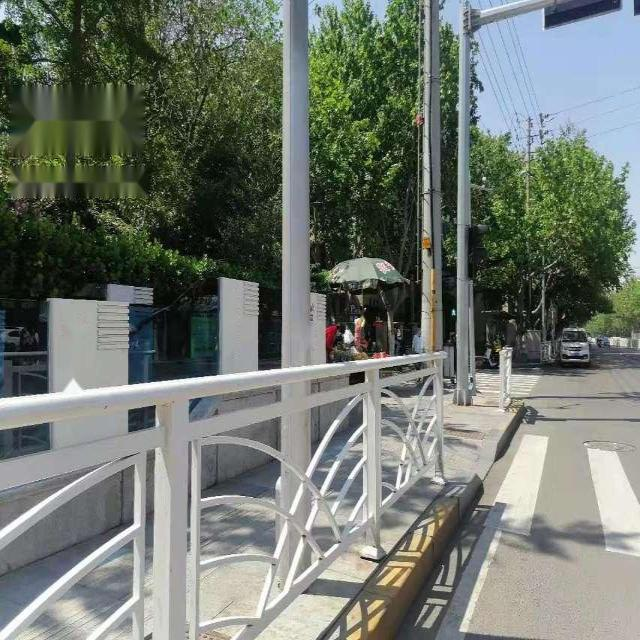fixed_stall: (328, 306, 392, 378)
sunshade: (325, 256, 410, 292)
